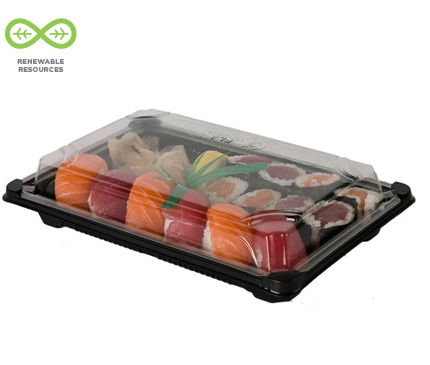PlasticBox: (2, 106, 418, 307)
